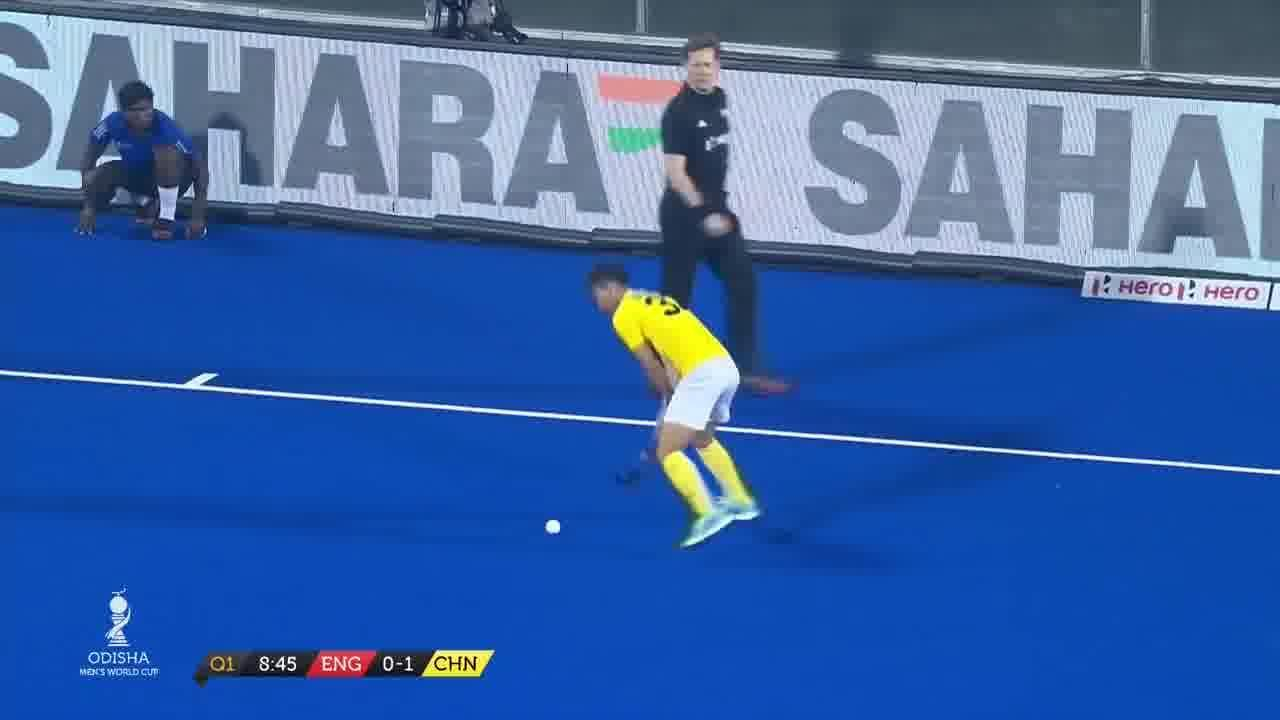ball: (540, 512, 570, 548)
